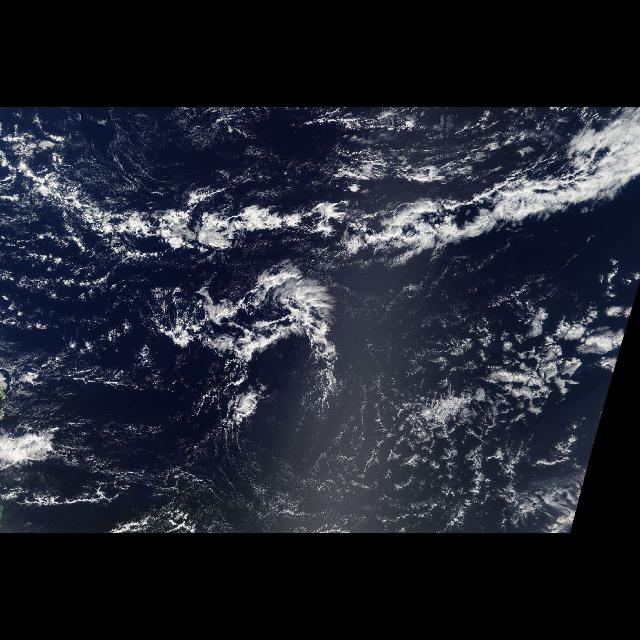Fish: (6, 111, 640, 442)
Gravel: (306, 379, 576, 521)
Sugar: (218, 299, 636, 523), (62, 110, 544, 182)
